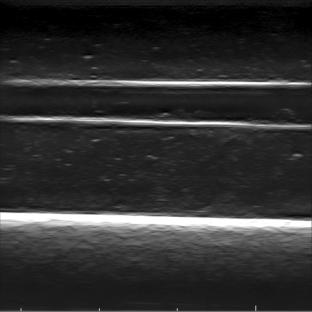vessel: (4, 78, 309, 126)
